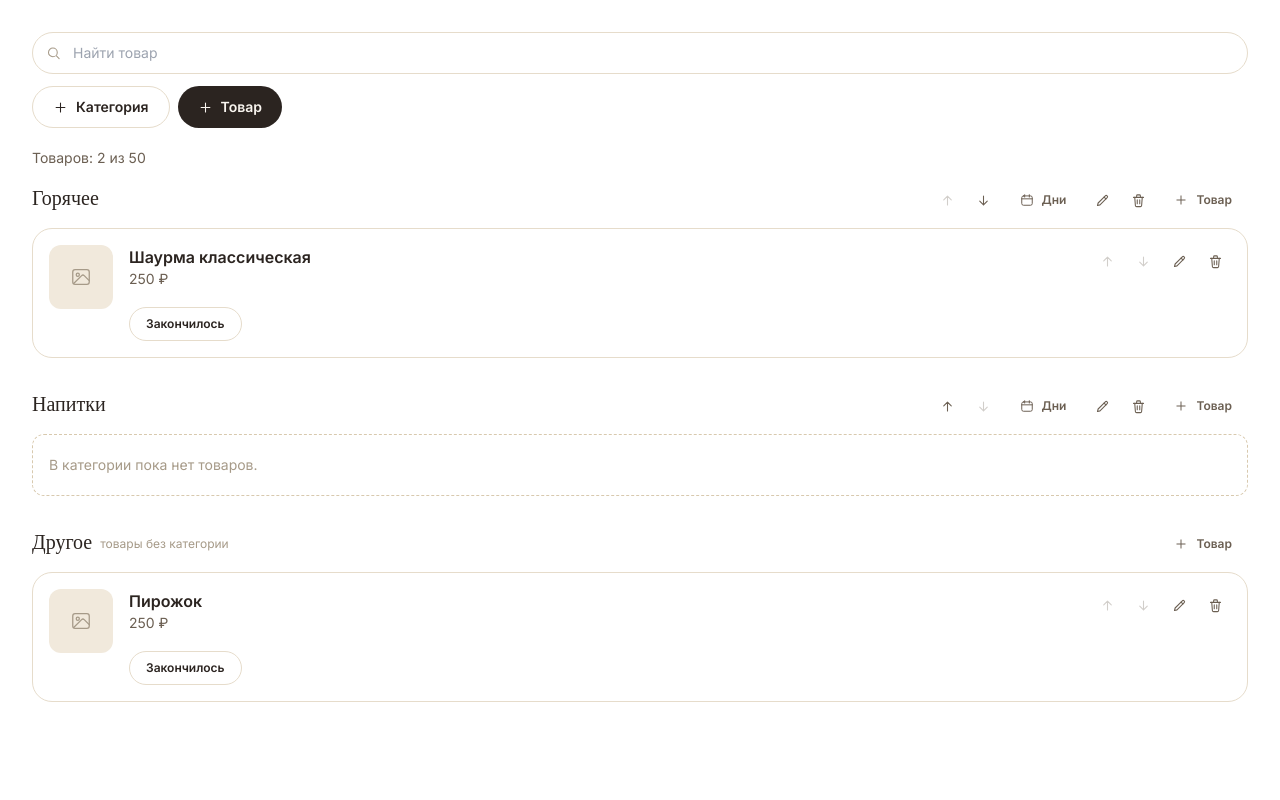
Test: CatalogPage › shows the server explanation when a non-empty category cannot be deleted
This screenshot has width=1280, height=800.
Click the button named "Удалить категорию Горячее": [1138, 200] box x1=1122 y1=184 x2=1154 y2=216
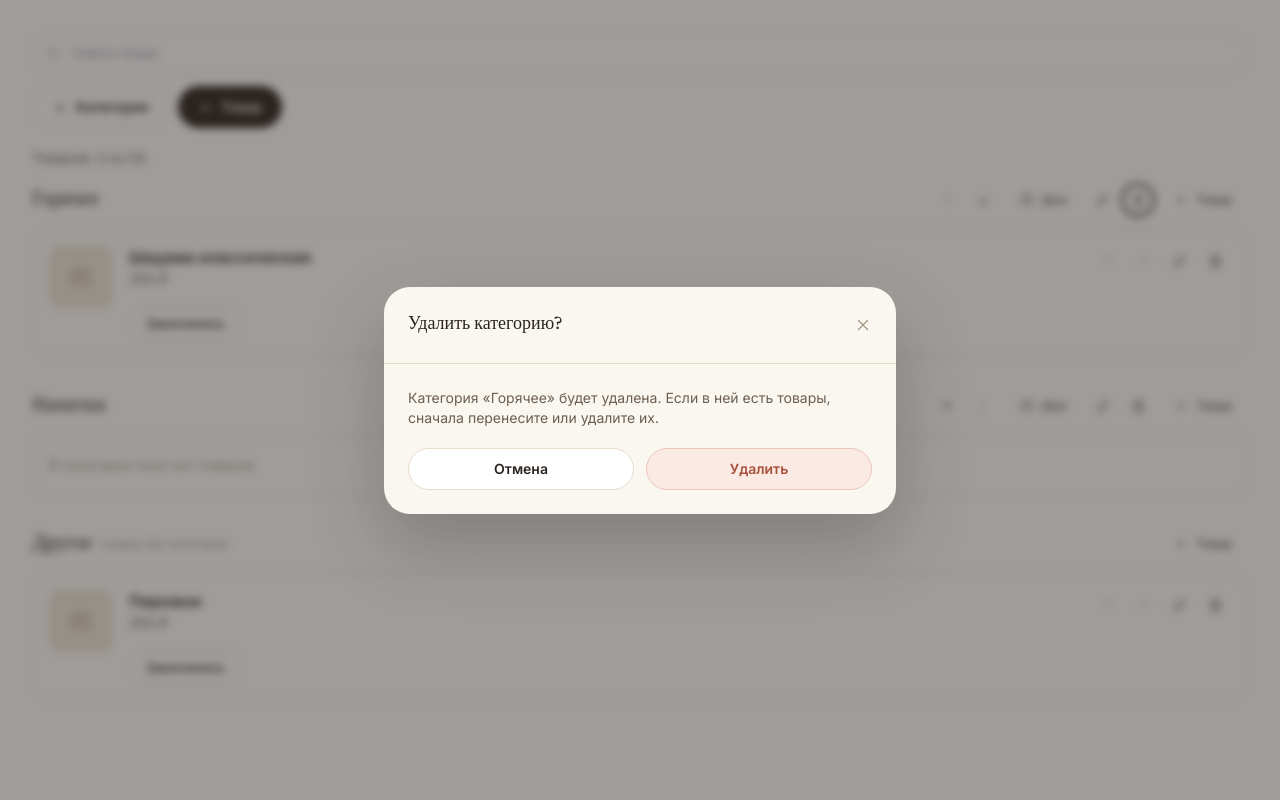
Click the button "Удалить": [759, 468] box x1=646 y1=448 x2=872 y2=490
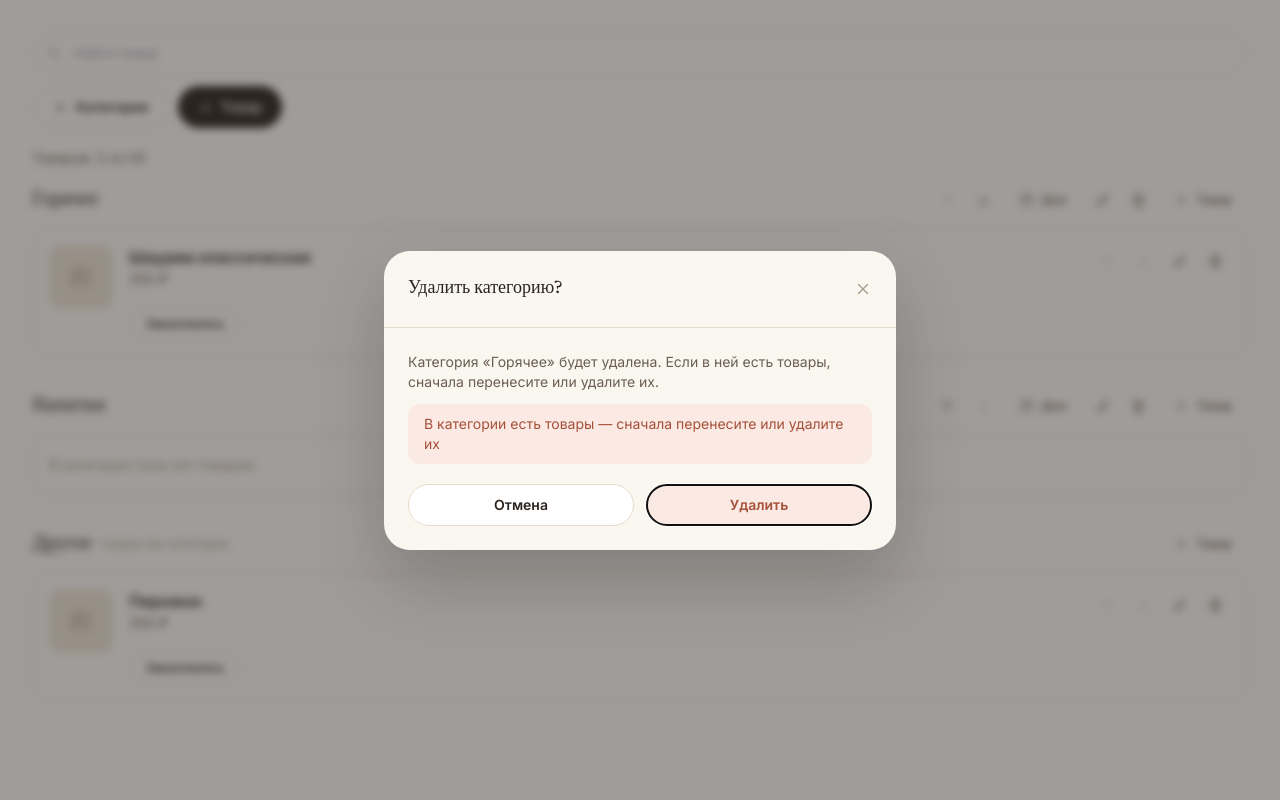
Expected: the text "В категории есть товары — сначала перенесите или удалите их" is shown, x1=408 y1=404 x2=872 y2=464
